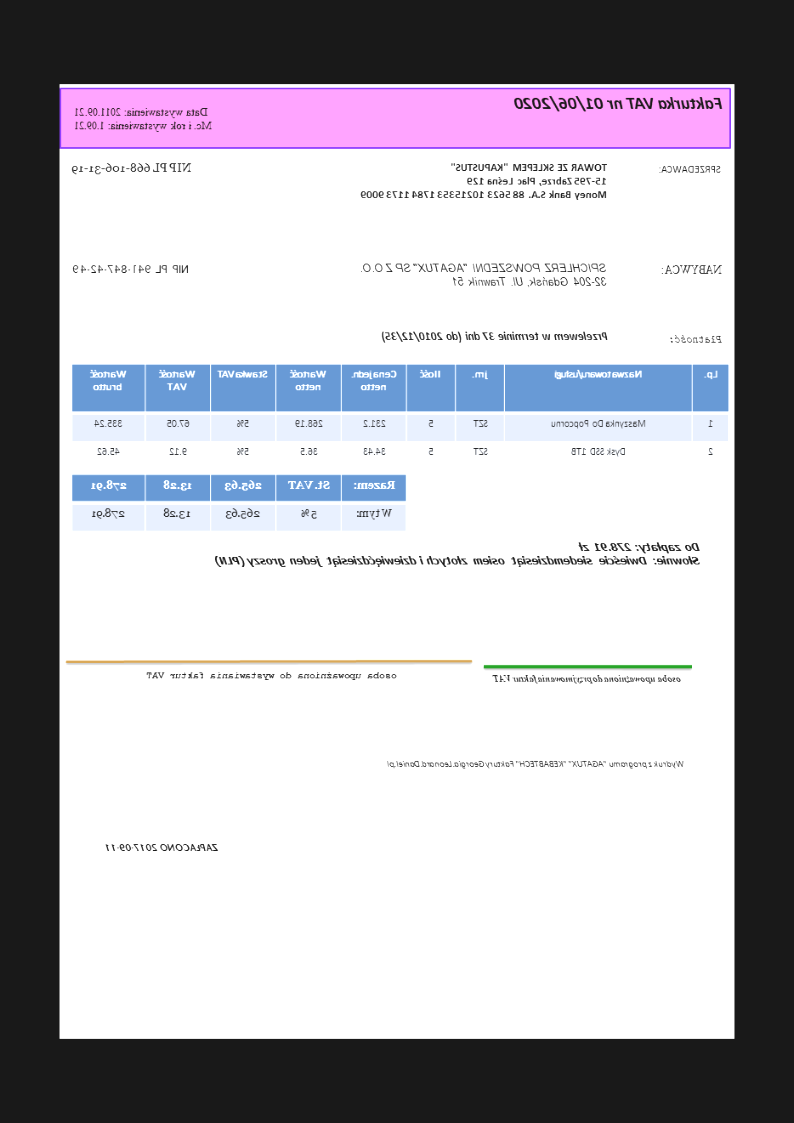Table: (71, 362, 730, 473), (71, 473, 407, 532)
TextBox: (213, 539, 702, 570), (360, 162, 610, 202), (357, 259, 610, 289), (73, 103, 216, 134), (513, 94, 724, 114), (385, 757, 685, 771), (381, 329, 610, 345), (145, 669, 399, 682), (491, 672, 683, 686), (71, 160, 195, 178), (71, 263, 190, 276), (104, 840, 220, 853), (658, 162, 723, 176), (660, 262, 724, 276), (669, 332, 723, 345)
